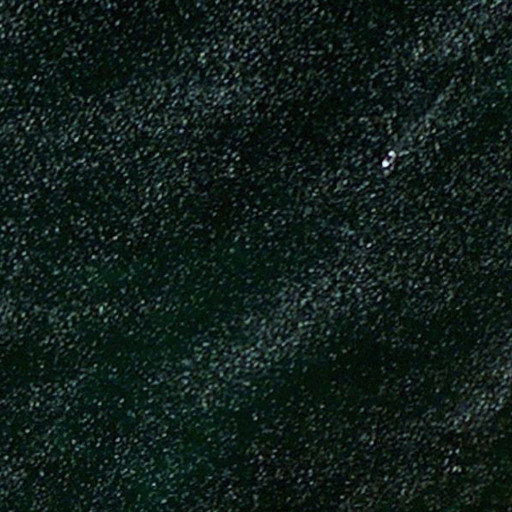ship: (379, 148, 398, 171)
